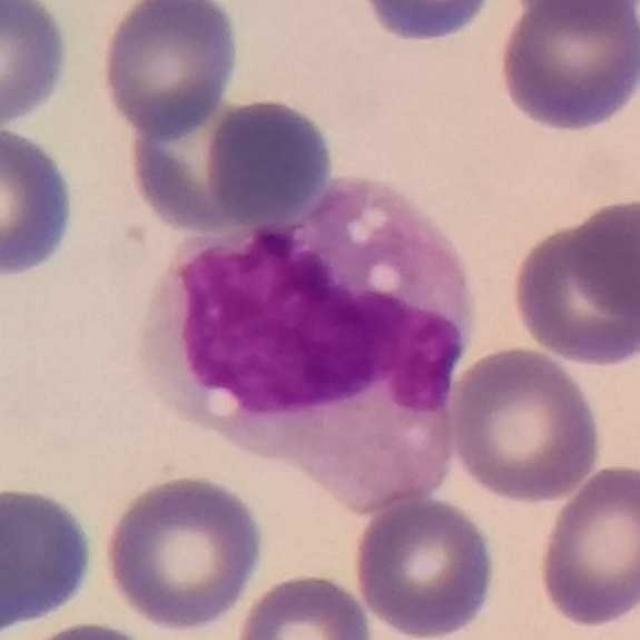mono: (134, 172, 473, 514)
